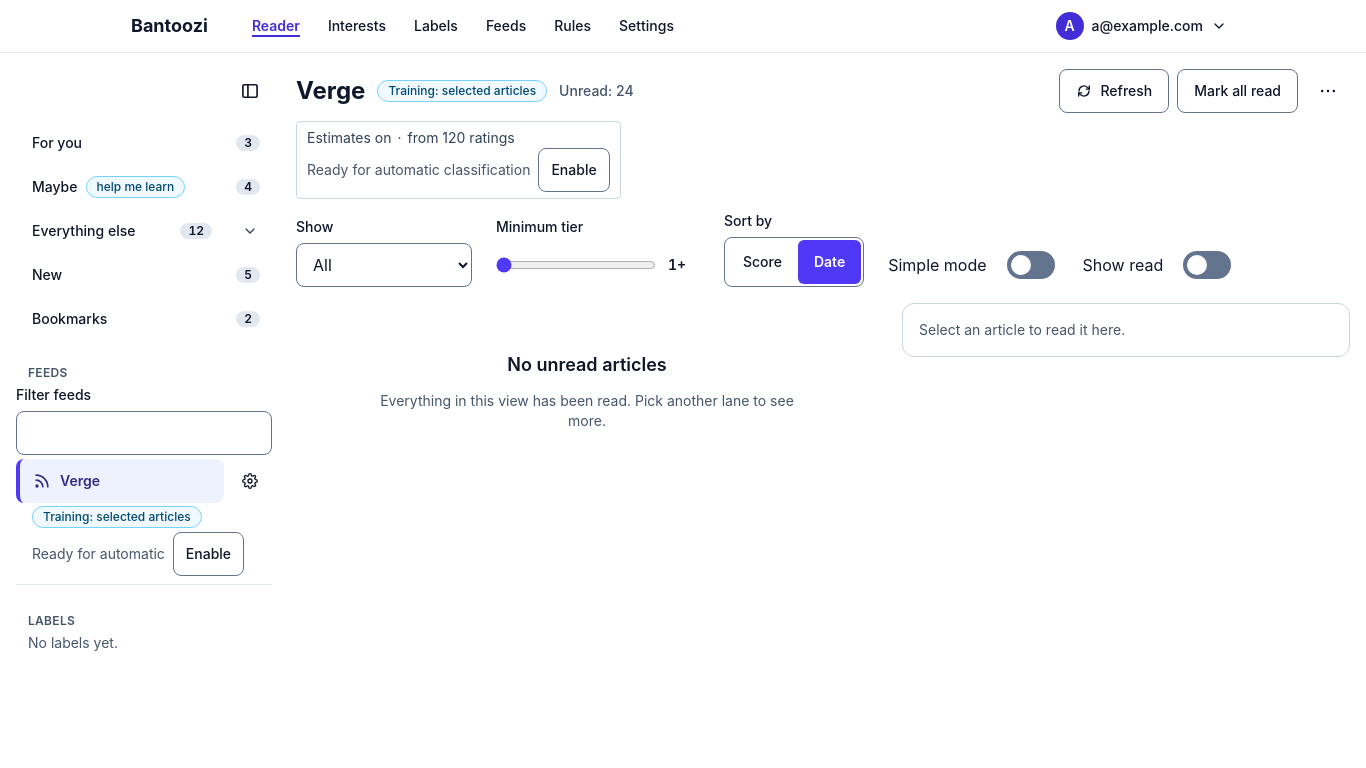
Scenario: the chip of a training feed only › offers Enable when the interests agree, and drops the chip once confirmed
Expected: the element named "Estimate learning for this feed" shows "Ready for automatic classification", [307,161,530,178]
What coordinates should you click on to do the following:
click the button with aria-label "Enable automatic classification for Verge"
I would click on:
 (574, 170)
Its box is [538,148,610,192].
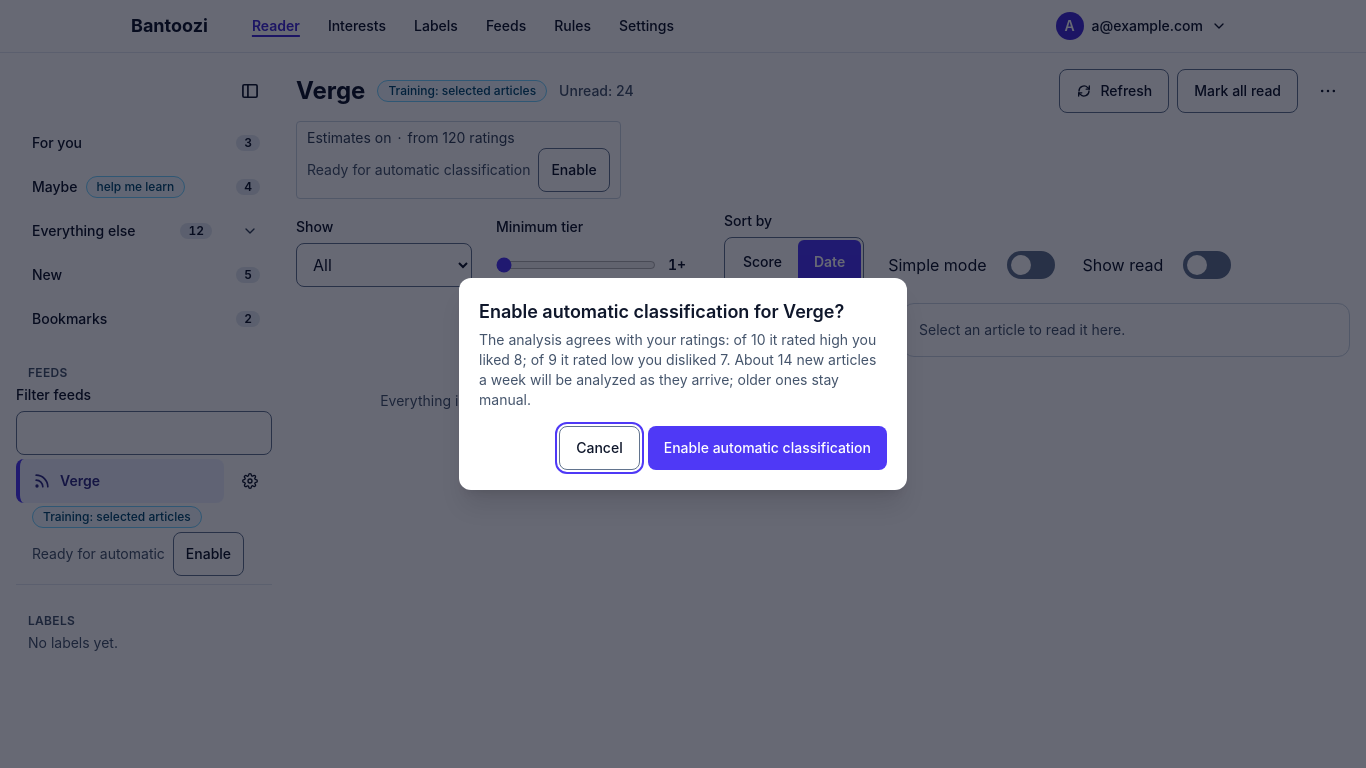
What coordinates should you click on to do the following:
click the button "Enable automatic classification"
I would click on:
 (767, 448)
Its box is [648,426,887,470].
Wait 1100 ms
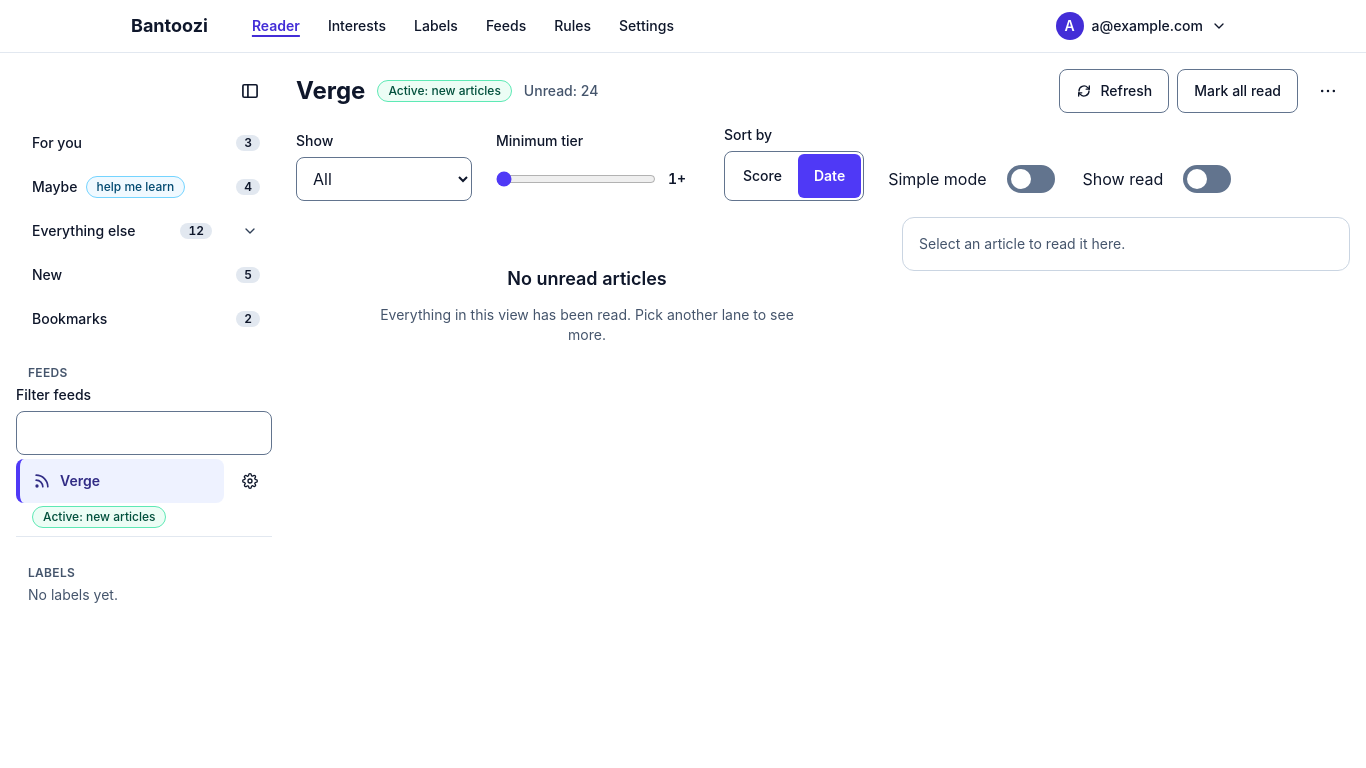
Expected: the dialog is gone
